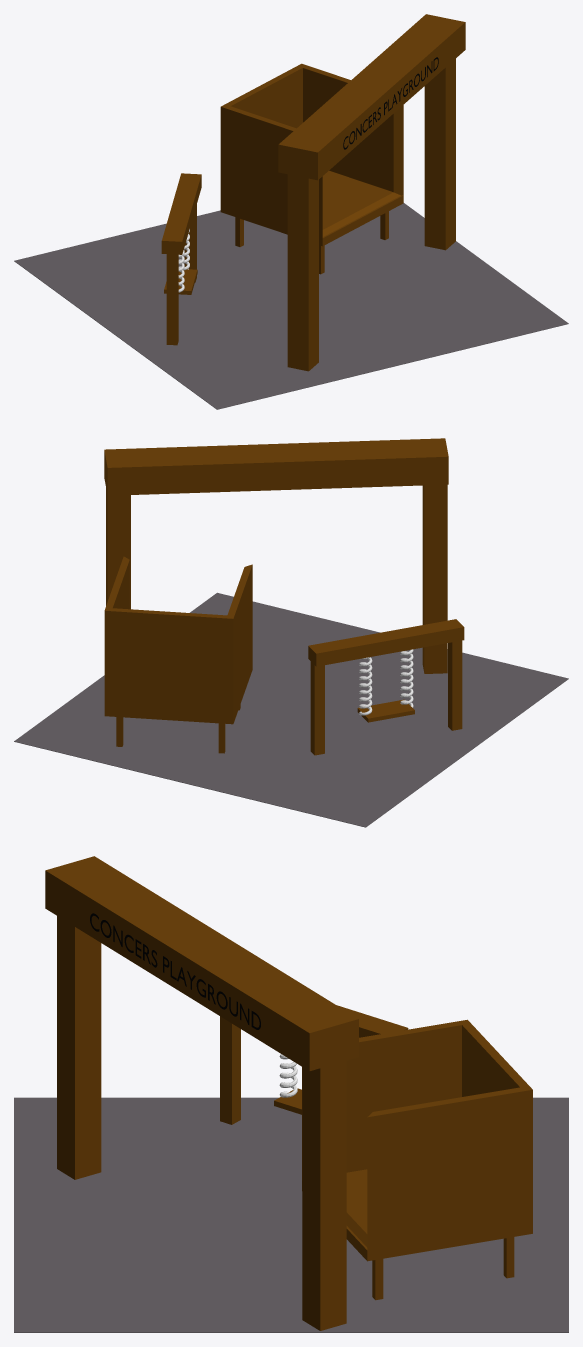
The model's file is concplayground.fbx.
3 views of the same model, one above another, from view 1: azimuth 30°, elevation 25°; view 2: azimuth 150°, elevation 25°; view 3: azimuth 270°, elevation 25° (orthographic). The views are drawn at different scales.
Visible parts, largest first — view 1: Pendulum, Entry Way, Box, Swingset, Text; view 2: Pendulum, Entry Way, Box, Swingset, Rope1, Rope2; view 3: Pendulum, Entry Way, Box, Swingset, Text.
Part boxes in pixels (bbox=[...]): Pendulum: bbox=[14, 203, 568, 409]; Entry Way: bbox=[278, 14, 465, 371]; Box: bbox=[220, 63, 403, 274]; Swingset: bbox=[161, 173, 201, 345]; Text: bbox=[343, 57, 438, 149]; Pendulum: bbox=[14, 592, 568, 827]; Entry Way: bbox=[104, 438, 448, 673]; Box: bbox=[104, 556, 252, 753]; Swingset: bbox=[308, 619, 464, 755]; Rope1: bbox=[359, 657, 372, 715]; Rope2: bbox=[400, 649, 413, 707]; Pendulum: bbox=[14, 1097, 568, 1332]; Entry Way: bbox=[45, 856, 358, 1330]; Box: bbox=[302, 1019, 532, 1300]; Swingset: bbox=[220, 1005, 408, 1124]; Text: bbox=[90, 913, 260, 1029].
Bounding box in the file's own units: 798 × 474 × 787.
